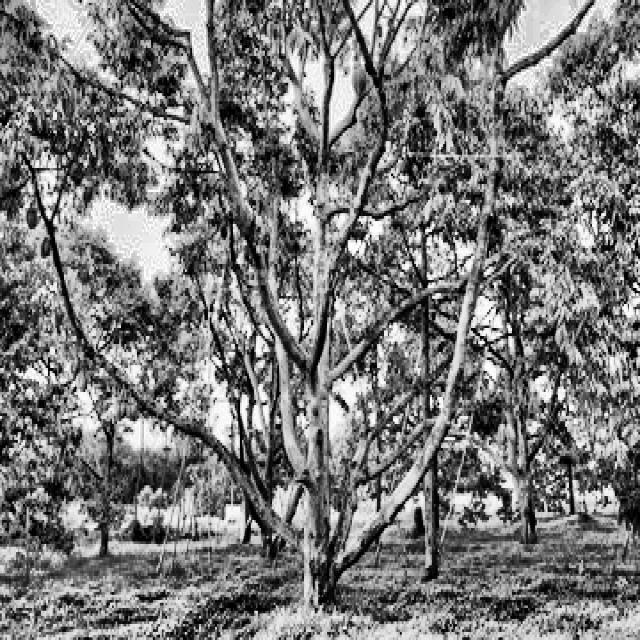arvore: (300, 230, 348, 614), (405, 212, 450, 590), (491, 278, 546, 552), (254, 376, 288, 572), (92, 396, 116, 579)
